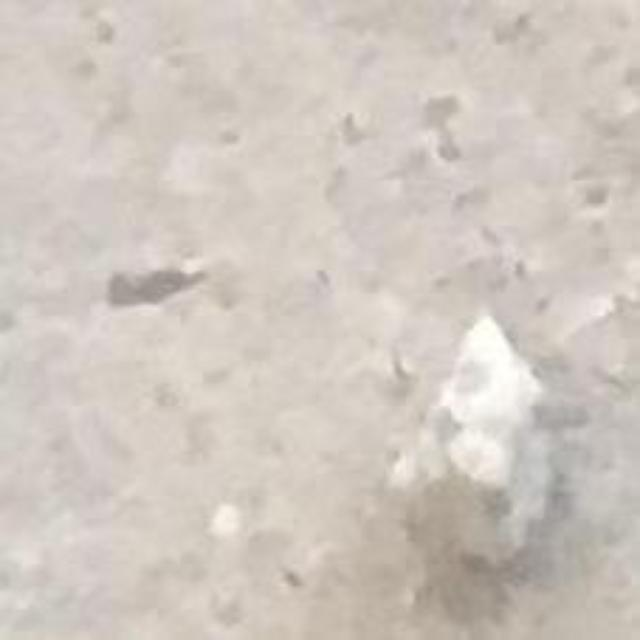peeling plaster: (390, 316, 552, 558)
